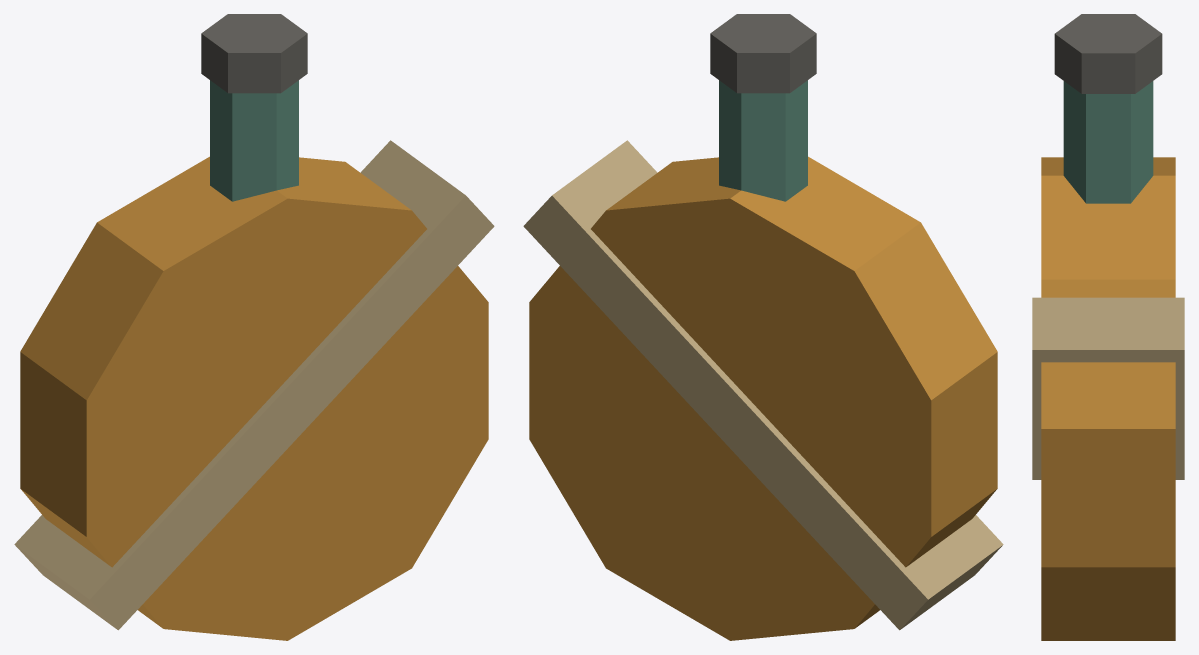
Rendered from potion_2_3.glb.
3 renders of one model, left to right at view 1: azimuth 30°, elevation 25°; view 2: azimuth 150°, elevation 25°; view 3: azimuth 270°, elevation 25°, orthographic.
Parts seen in each view (by area): view 1: Potion_2_3; view 2: Potion_2_3; view 3: Potion_2_3.
Part boxes in pixels (x1,y1,x2,y2): Potion_2_3: [14, 14, 494, 640]; Potion_2_3: [523, 14, 1003, 640]; Potion_2_3: [1032, 14, 1184, 640].
Bounding box in the file's own units: 0.3161 × 0.435 × 0.102.
